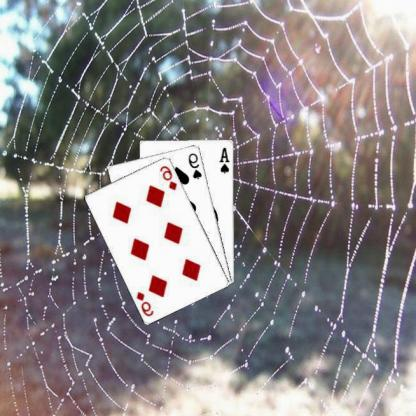6D: (159, 163, 180, 191), (135, 289, 156, 317)
9S: (188, 150, 204, 180)
AS: (219, 145, 233, 174)
